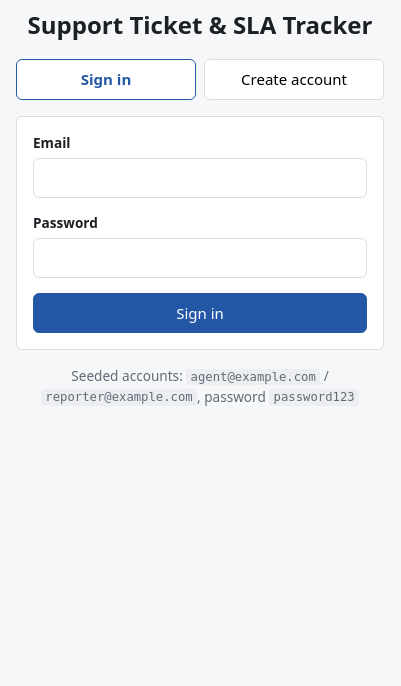
Test: create account › reveals the agent signup code only once AGENT is chosen
The width and height of the screenshot is (401, 686).
Click the tab "Create account".
click(294, 79)  # box left=204, top=59, right=384, bottom=100
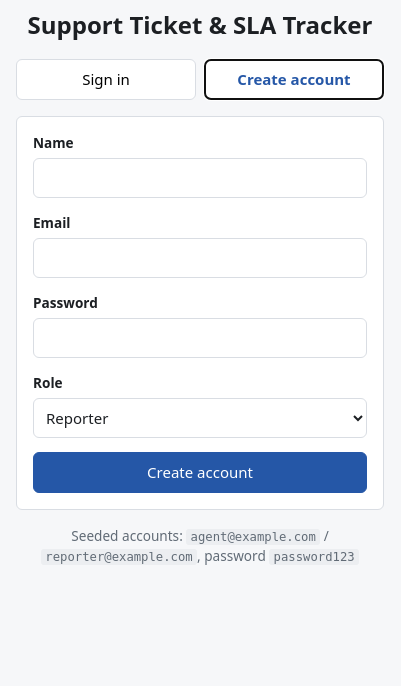
Select "Agent" in the dropdown labelled "Role" at (200, 418), box left=33, top=398, right=367, bottom=438
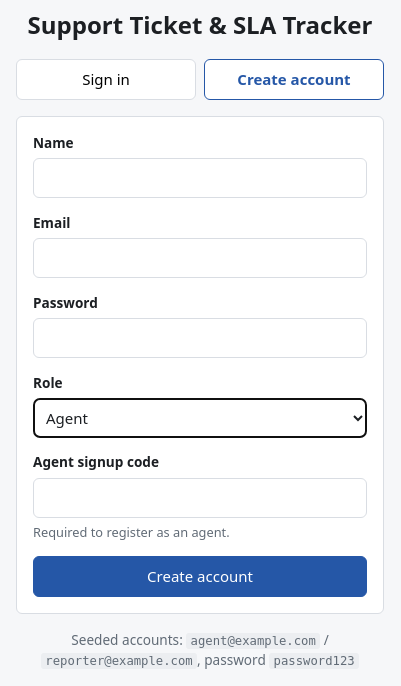
expect the field labelled "Agent signup code" is shown: met, box left=33, top=478, right=367, bottom=518
expect the text "Required to register as an agent." is shown: met, box left=33, top=523, right=230, bottom=541
